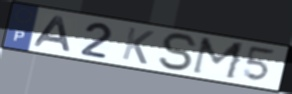2: (76, 20, 117, 61)
5: (240, 44, 278, 84)
A: (32, 15, 73, 54)
K: (119, 26, 157, 67)
M: (189, 36, 248, 82)
S: (157, 32, 201, 73)
